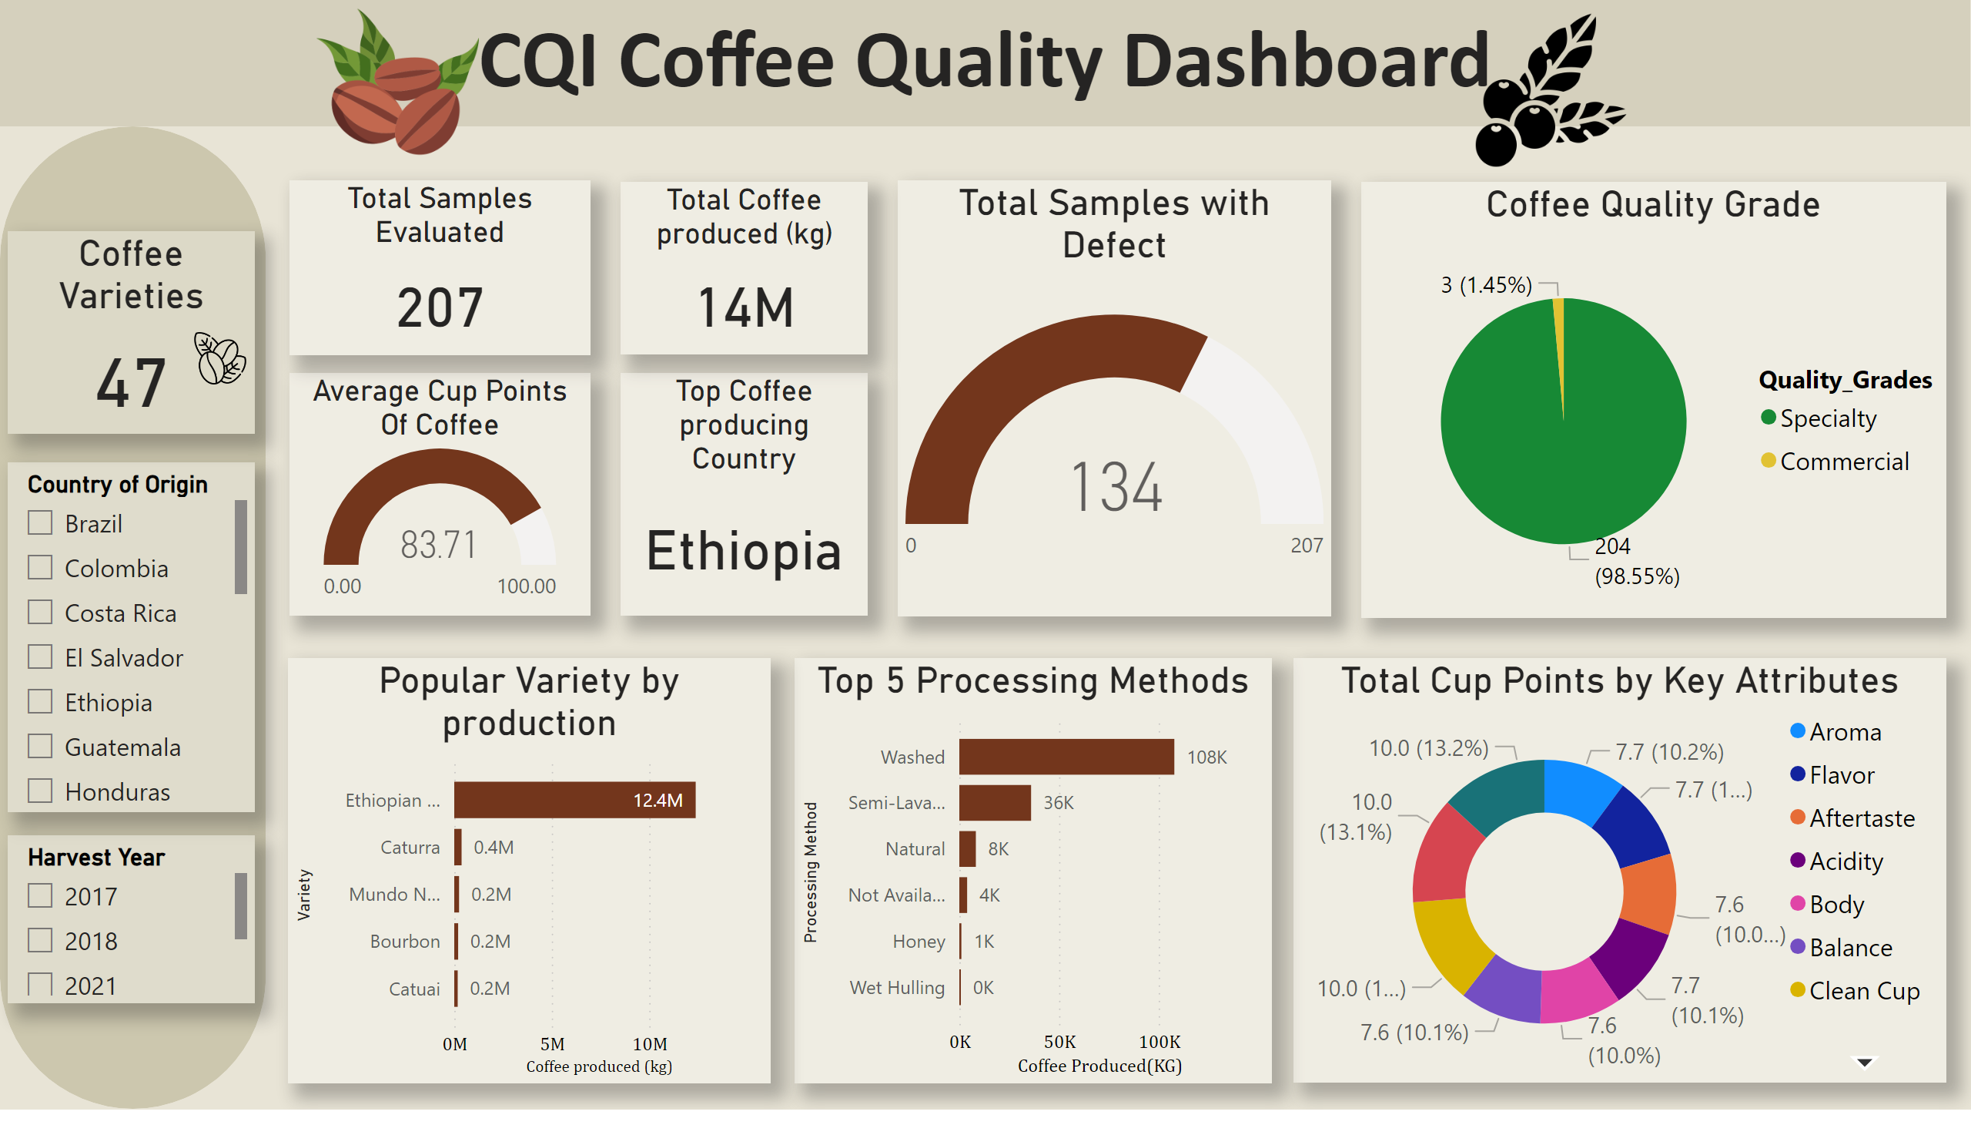

The dashboard page shown, as its layout file describes it:
{"tool":"powerbi","page":{"name":"Overview","canvas":[1280,720],"ordinal":0},"visuals":[{"type":"textbox","box":[0,0,1279.5,81.8],"z":0},{"type":"image","box":[196.8,0,122.7,106],"z":1000},{"type":"image","box":[931.2,0,154.4,116.6],"z":2000},{"type":"shape","box":[0,81.8,172.6,637.5],"z":3000},{"type":"slicer","fields":{"Values":["arabica_data.Country of Origin"]},"box":[4.5,299.8,160.5,227.1],"z":4000},{"type":"slicer","title":"Harvest Year","fields":{"Values":["arabica_data.Harvest Start_Year"]},"box":[4.5,542.1,160.5,109],"z":5000},{"type":"card","title":"Coffee Varieties","fields":{"Values":["Count(arabica_data.Variety)"]},"box":[4.5,149.9,160.5,131.7],"z":6000},{"type":"card","title":"Total Samples Evaluated","fields":{"Values":["CountNonNull(arabica_data.ID)"]},"box":[187.8,116.6,195.3,113.6],"z":7000},{"type":"gauge","title":"Average Cup Points Of Coffee","fields":{"Y":["Avg(arabica_data.Total Cup Points)"]},"box":[187.8,242.3,195.3,157.5],"z":8000},{"type":"pieChart","title":"Coffee Quality Grade","fields":{"Y":["arabica_data.Coffee_Grade_Percentage"],"Category":["arabica_data.Coffee_Grade"]},"box":[884.3,118.1,380.1,283.2],"z":9000},{"type":"gauge","title":"Total Samples with Defect","fields":{"Y":["Coffee_Measures.Total Defects"],"MaxValue":["arabica_data.Samples_Count"]},"box":[583,116.6,281.6,283.2],"z":10000},{"type":"barChart","title":"Top 5 Processing Methods","fields":{"Category":["arabica_data.Processing Method"],"Y":["Avg(arabica_data.Total Coffee Produced (kg))"]},"box":[515.9,427.1,309.9,275.9],"z":11000},{"type":"donutChart","title":"Total Cup Points by Key Attributes","fields":{"Y":["Avg(arabica_data.Aroma)","Avg(arabica_data.Flavor)","Avg(arabica_data.Aftertaste)","Avg(arabica_data.Acidity)","Avg(arabica_data.Body)","Avg(arabica_data.Balance)","Avg(arabica_data.Clean Cup)","Avg(arabica_data.Uniformity)","Avg(arabica_data.Sweetness)"]},"box":[840.4,427,424,275.6],"z":12000},{"type":"card","title":"Total Coffee produced (kg)","fields":{"Values":["Coffee_Measures.Total_coffee_produced_kg"]},"box":[402.8,118.1,160.5,112.1],"z":13000},{"type":"clusteredBarChart","title":"Popular Variety by production","fields":{"Y":["Sum(arabica_data.Total Coffee Produced (kg))"],"Category":["arabica_data.Variety"]},"box":[187.1,427.1,313.7,275.9],"z":14000},{"type":"card","title":"Top Coffee producing Country","fields":{"Values":["Coffee_Measures.Top Producing Country"]},"box":[402.8,242.3,160.5,157.5],"z":15000},{"type":"image","box":[121.1,205.9,43.9,53],"z":16000}]}

Visuals, with their boxes in screenshot pixels (x1, y1, x2, y2), scaled from the page's 1280x720 canvas onto the 1971x1125 screenshot:
textbox: {"x1": 0, "y1": 0, "x2": 1970, "y2": 128}
image: {"x1": 303, "y1": 0, "x2": 492, "y2": 166}
image: {"x1": 1434, "y1": 0, "x2": 1672, "y2": 182}
shape: {"x1": 0, "y1": 128, "x2": 266, "y2": 1124}
slicer - arabica_data.Country of Origin: {"x1": 7, "y1": 468, "x2": 254, "y2": 823}
"Harvest Year" slicer: {"x1": 7, "y1": 847, "x2": 254, "y2": 1017}
"Coffee Varieties" card: {"x1": 7, "y1": 234, "x2": 254, "y2": 440}
"Total Samples Evaluated" card: {"x1": 289, "y1": 182, "x2": 590, "y2": 360}
"Average Cup Points Of Coffee" gauge: {"x1": 289, "y1": 379, "x2": 590, "y2": 625}
"Coffee Quality Grade" pieChart: {"x1": 1362, "y1": 185, "x2": 1947, "y2": 627}
"Total Samples with Defect" gauge: {"x1": 898, "y1": 182, "x2": 1331, "y2": 625}
"Top 5 Processing Methods" barChart: {"x1": 794, "y1": 667, "x2": 1272, "y2": 1098}
"Total Cup Points by Key Attributes" donutChart: {"x1": 1294, "y1": 667, "x2": 1947, "y2": 1098}
"Total Coffee produced (kg)" card: {"x1": 620, "y1": 185, "x2": 867, "y2": 360}
"Popular Variety by production" clusteredBarChart: {"x1": 288, "y1": 667, "x2": 771, "y2": 1098}
"Top Coffee producing Country" card: {"x1": 620, "y1": 379, "x2": 867, "y2": 625}
image: {"x1": 186, "y1": 322, "x2": 254, "y2": 405}
